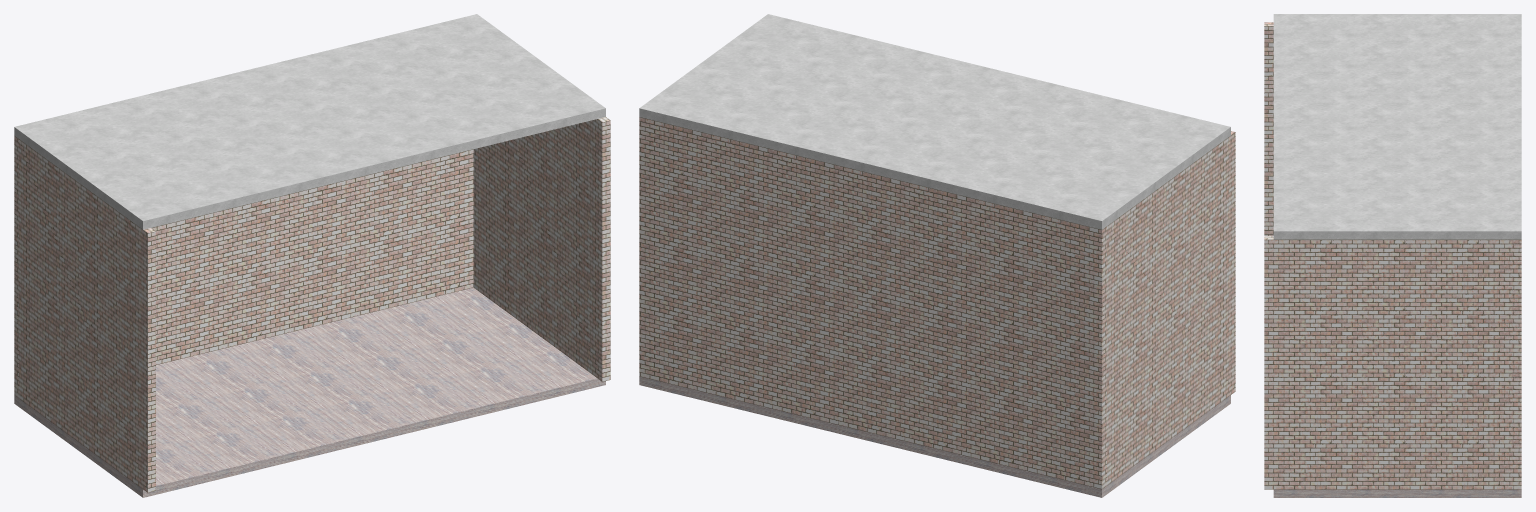
File: OLD_Vestibule.obj
3 renders of one model, left to right at view 1: azimuth 30°, elevation 25°; view 2: azimuth 150°, elevation 25°; view 3: azimuth 270°, elevation 25°, orthographic. The views are drawn at different scales.
Visible parts, largest first — view 1: Ceiling1, Floor1, Wall3, Wall2, Wall1; view 2: Wall3, Ceiling1, Wall2, Floor1; view 3: Wall1, Ceiling1, Wall3, Floor1, Wall2.
Part boxes in pixels (bbox=[...]): Ceiling1: bbox=[14, 14, 605, 229]; Floor1: bbox=[14, 287, 605, 497]; Wall3: bbox=[14, 136, 473, 397]; Wall2: bbox=[19, 139, 155, 492]; Wall1: bbox=[473, 117, 610, 381]; Wall3: bbox=[639, 117, 1106, 489]; Ceiling1: bbox=[639, 14, 1230, 229]; Wall2: bbox=[1107, 131, 1235, 485]; Floor1: bbox=[639, 376, 1230, 497]; Wall1: bbox=[1264, 236, 1512, 489]; Ceiling1: bbox=[1273, 14, 1521, 239]; Wall3: bbox=[1512, 239, 1521, 489]; Floor1: bbox=[1273, 489, 1521, 497]; Wall2: bbox=[1264, 22, 1273, 235].
Size of the model in its own units: 56 by 32 by 28.
